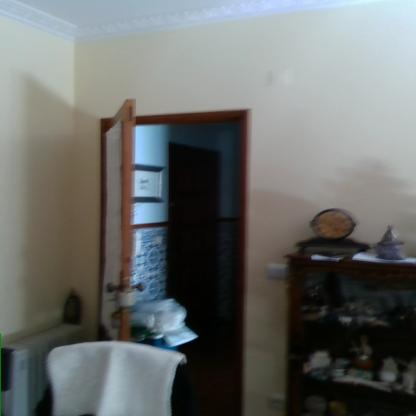semi: (88, 96, 255, 414)
